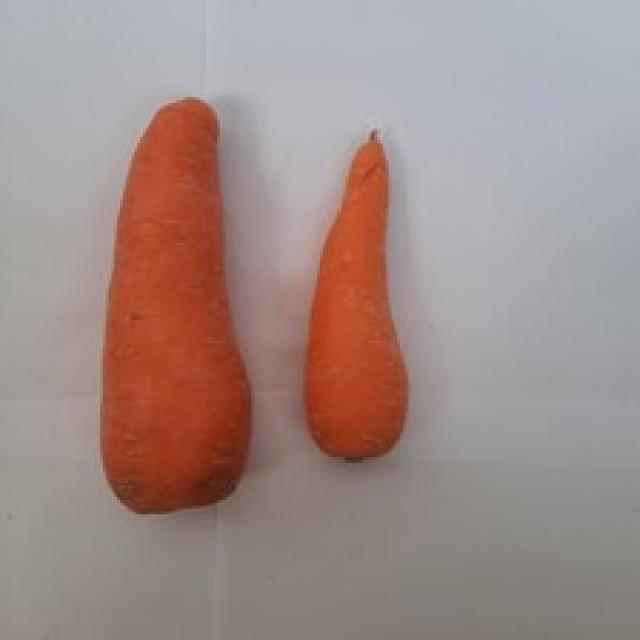Fresh_Carrot: (99, 87, 252, 527), (307, 130, 402, 463)
